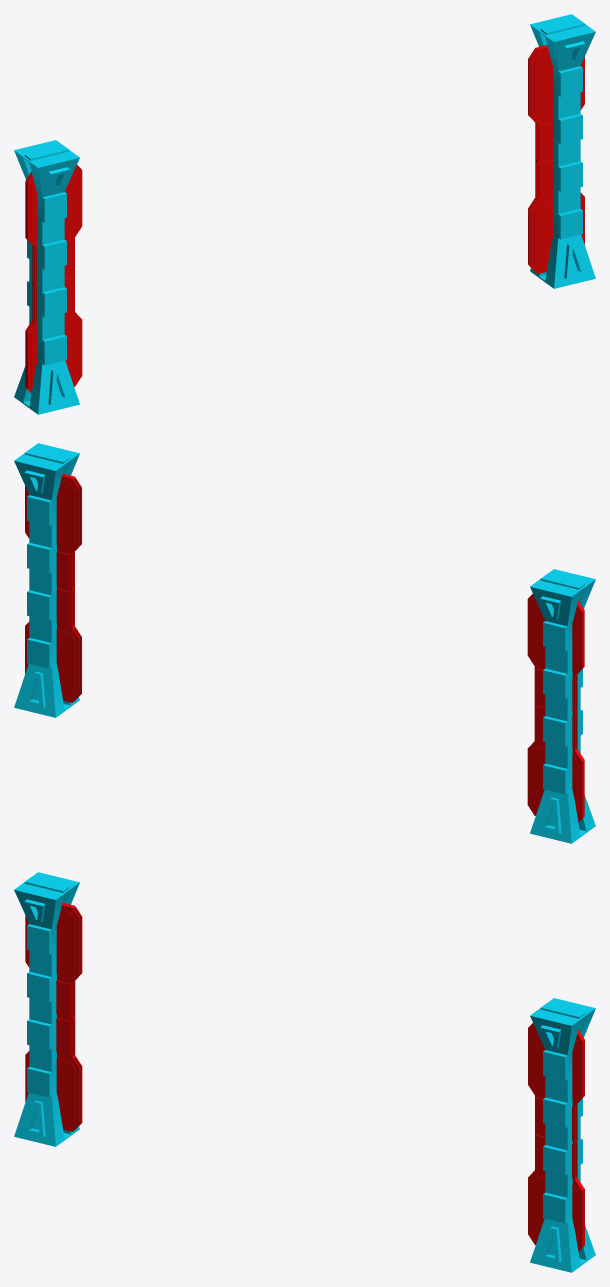
The model's file is Barreras taller (final).fbx.
The picture shows the model from 3 angles, top to bottom: view 1: azimuth 30°, elevation 25°; view 2: azimuth 150°, elevation 25°; view 3: azimuth 330°, elevation 25°; orthographic projection.
Visible parts, largest first — view 1: Palos, Generadores; view 2: Palos, Generadores; view 3: Palos, Generadores.
Boxes of the visible parts, x1,y1,x2,y2 form: Palos: (14, 14, 595, 414); Generadores: (25, 45, 584, 393); Palos: (14, 443, 595, 843); Generadores: (25, 473, 584, 822); Palos: (14, 872, 595, 1272); Generadores: (25, 903, 584, 1251).
Size of the model in its own units: 66.54 by 28.35 by 5.58.
